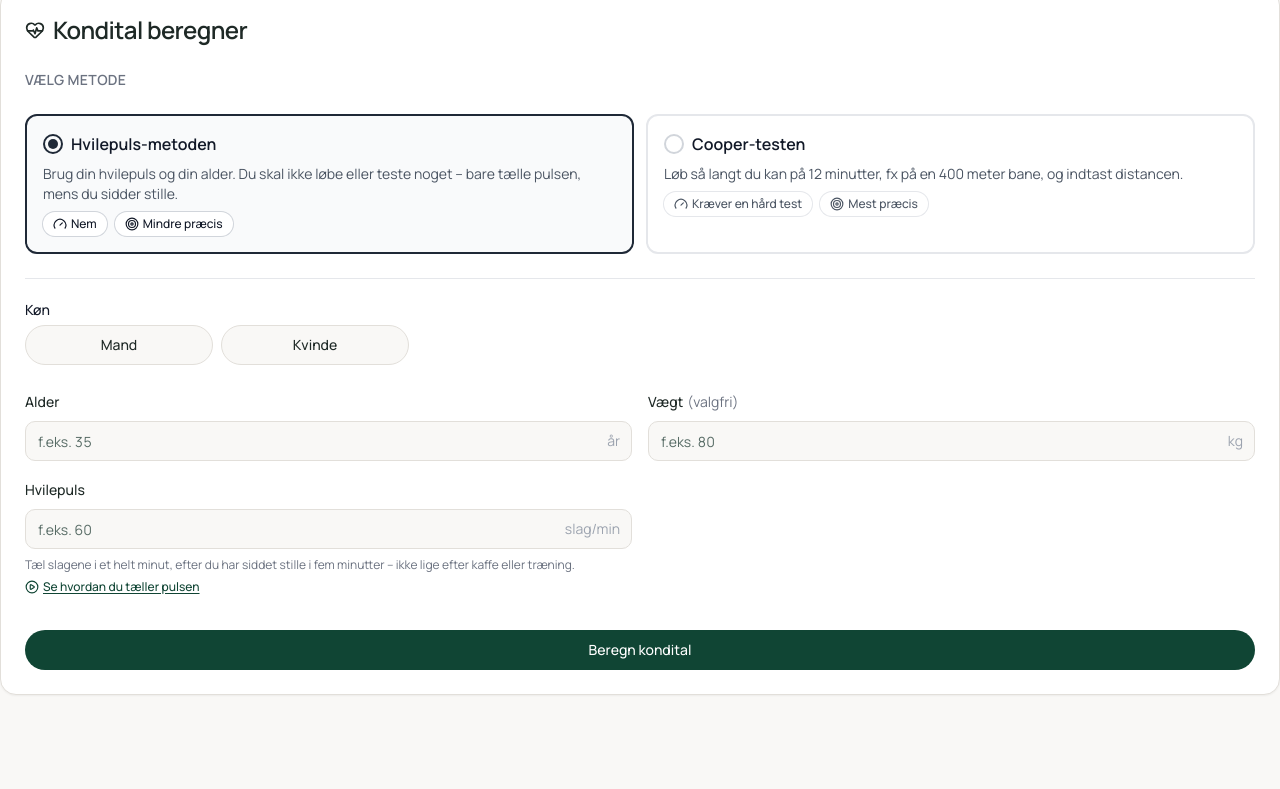
it: KonditalCalculator › explains itself instead of showing a number when the resting pulse is implausible
Click the button "Mand": (119, 345) [25,325,213,365]
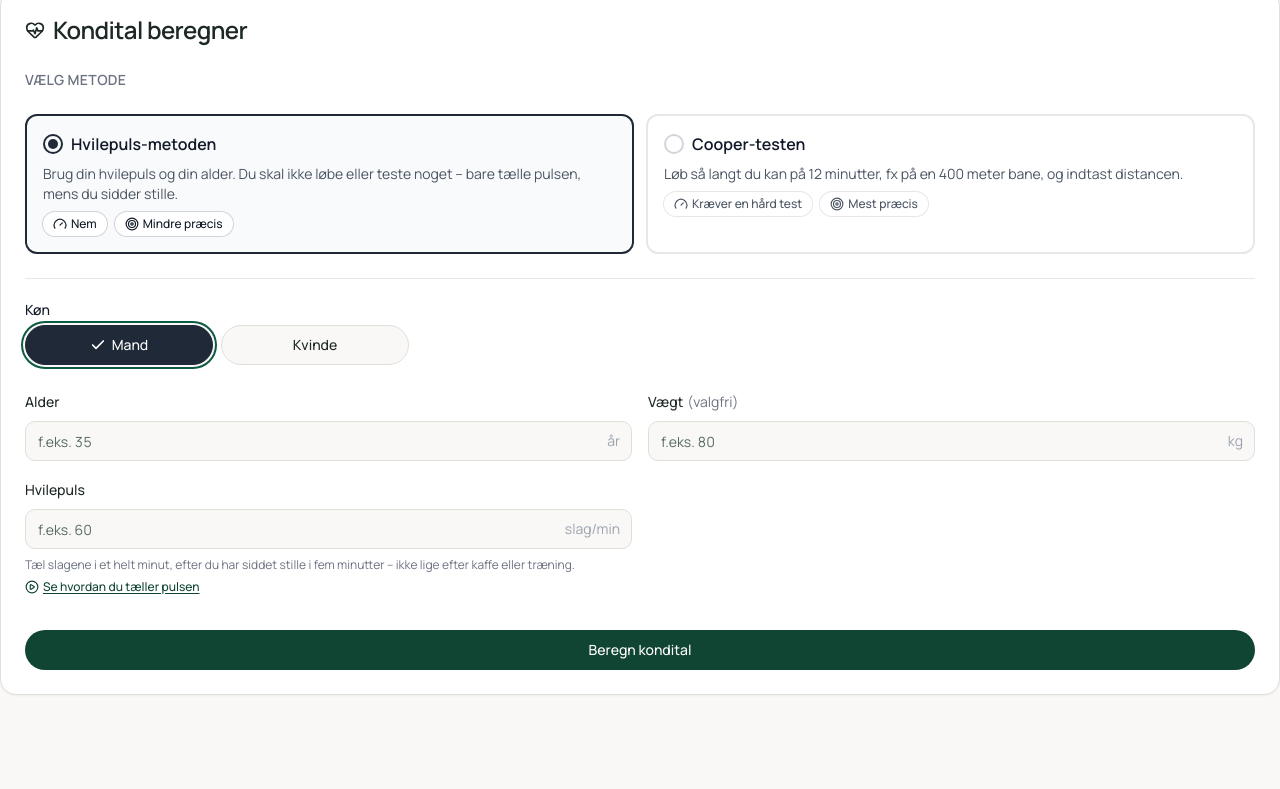
In the field labelled "Alder": (328, 441) [25,421,632,461], type "35"
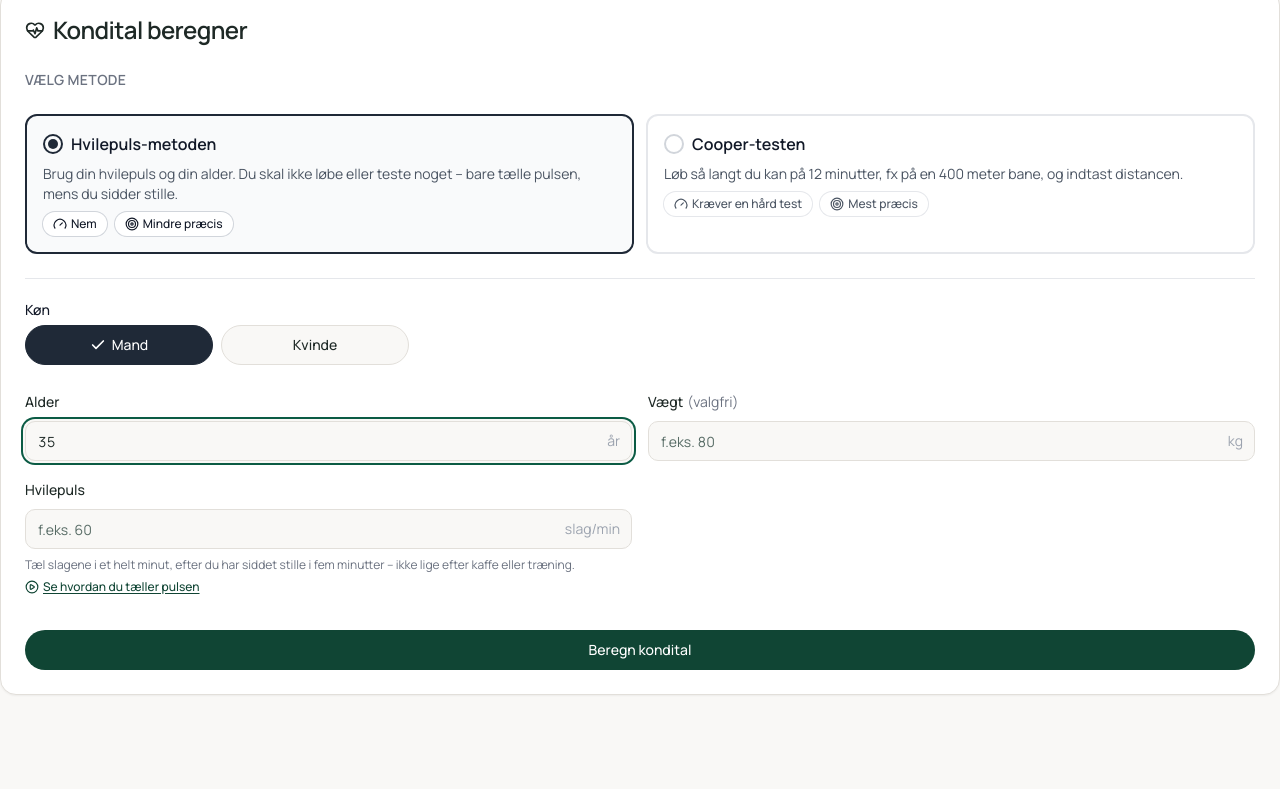
In the field labelled "Hvilepuls": (328, 529) [25,509,632,549], type "180"
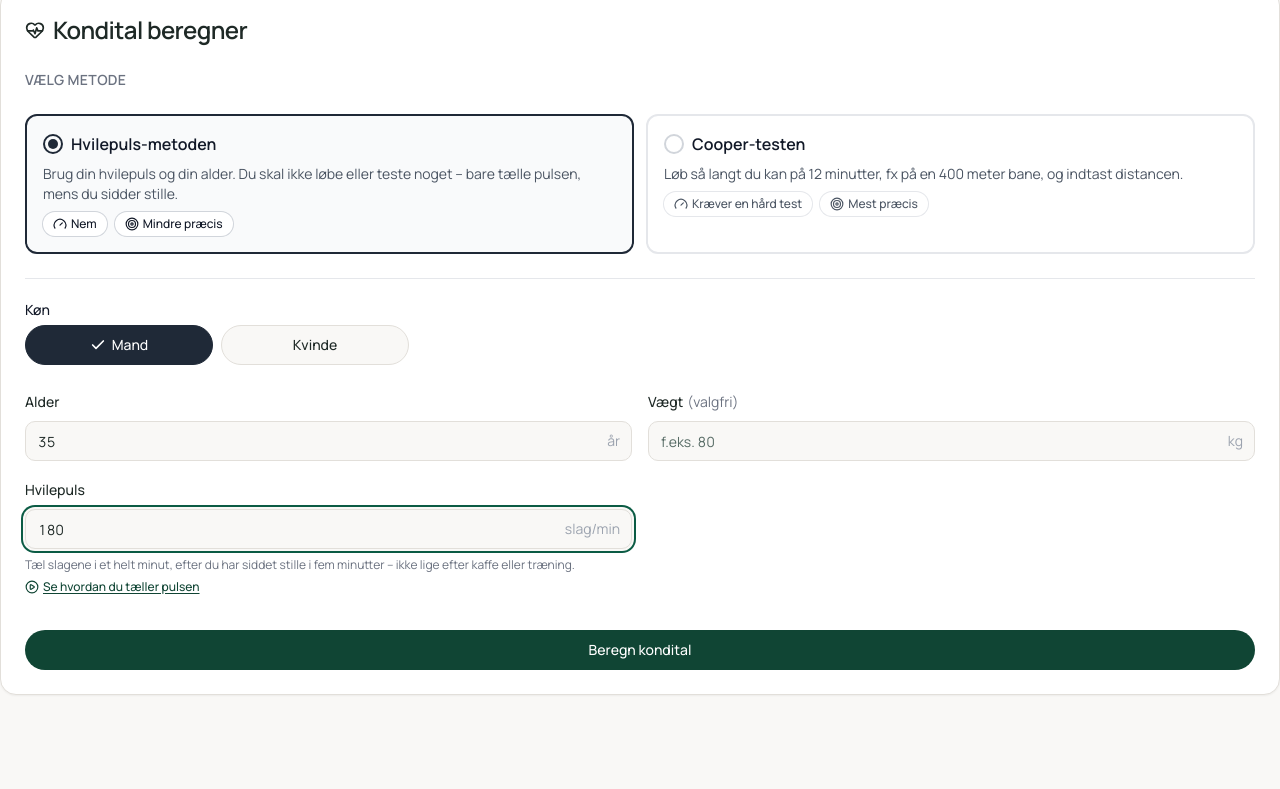
Click the button "Beregn kondital": (640, 650) [25,630,1255,670]
(page scrolled)
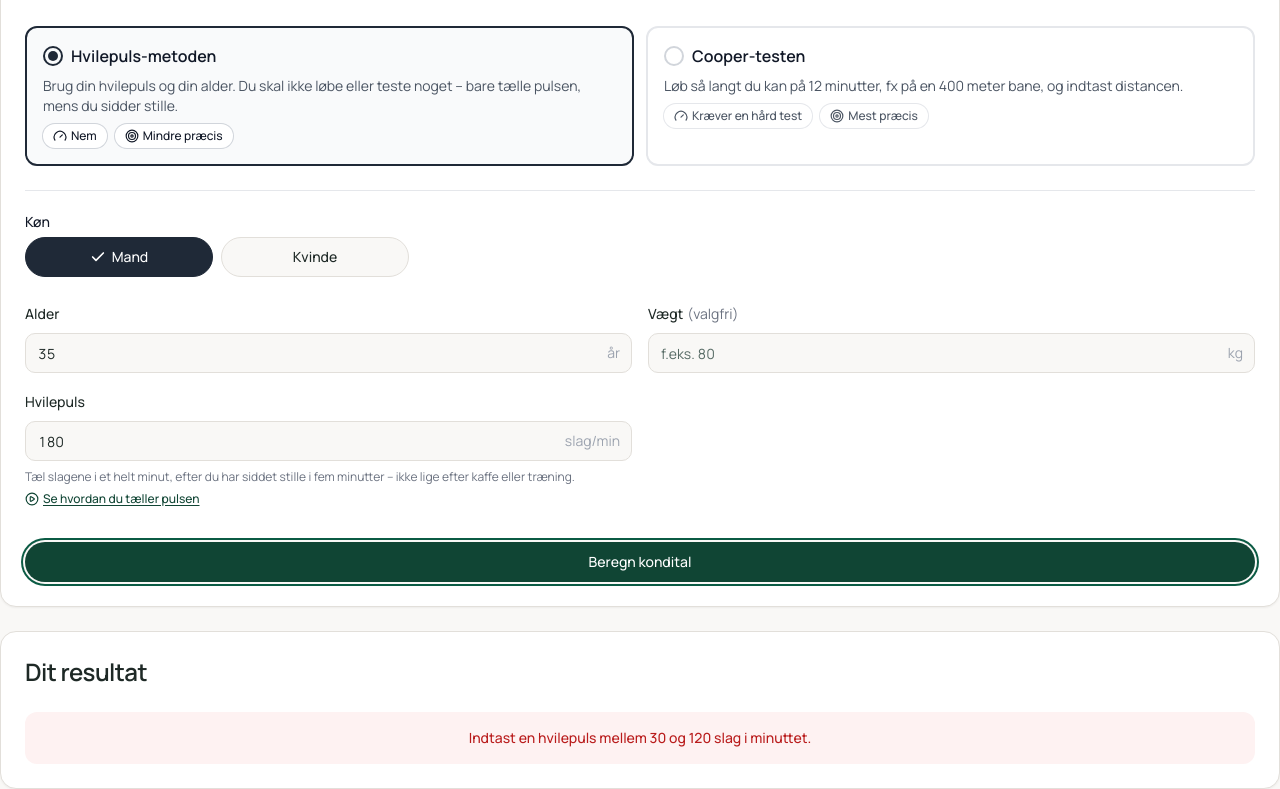
Result: the text "Indtast en hvilepuls mellem 30 og 120 slag i minuttet." is shown at [469,728,811,747]
